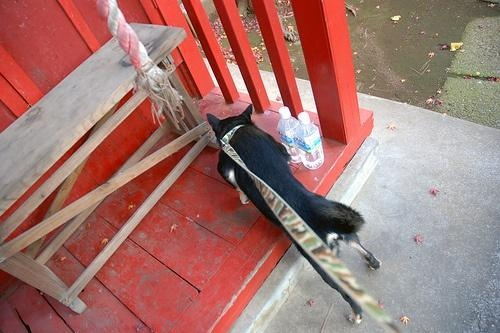bottle: (296, 111, 326, 171), (276, 107, 303, 166)
dog: (199, 105, 382, 326)
